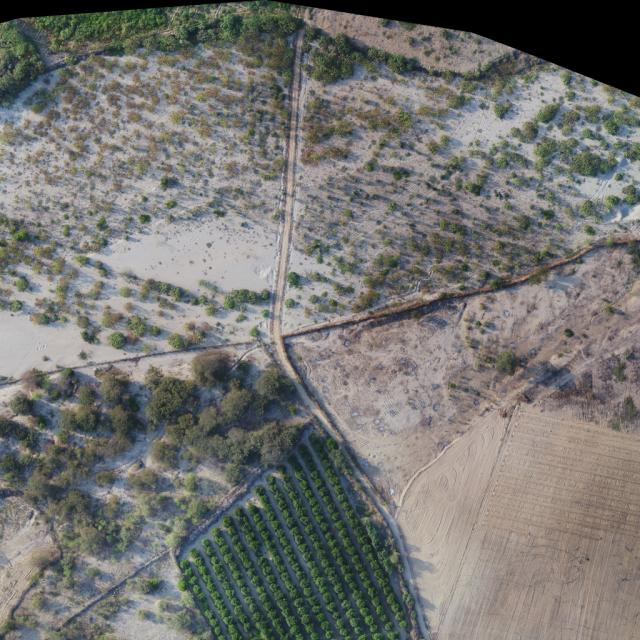dryland: (0, 46, 289, 370), (288, 72, 640, 336), (306, 7, 513, 81)
greenland: (145, 350, 303, 469), (375, 51, 550, 92), (33, 7, 169, 52), (296, 22, 370, 96), (0, 22, 46, 104), (568, 149, 603, 180), (532, 98, 563, 127), (530, 133, 560, 162), (299, 21, 322, 45), (582, 102, 603, 124), (561, 109, 581, 126)
unmetalled_road: (269, 30, 310, 341)
